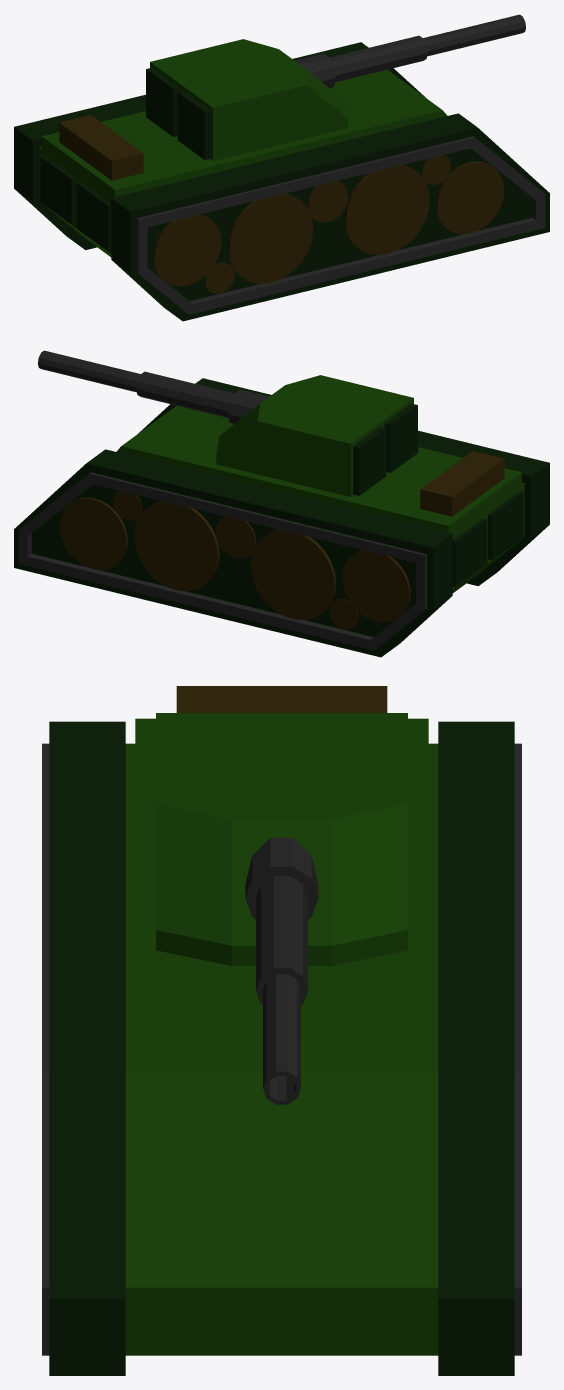
File: Tank.glb
3 renders of one model, top to bottom at view 1: azimuth 30°, elevation 25°; view 2: azimuth 150°, elevation 25°; view 3: azimuth 270°, elevation 25°, orthographic. The views are drawn at different scales.
Visible parts, largest first — view 1: Cube; view 2: Cube; view 3: Cube.
Part boxes in pixels (bbox=[...]): Cube: bbox=[14, 14, 549, 321]; Cube: bbox=[14, 350, 549, 657]; Cube: bbox=[42, 686, 521, 1375].
Bounding box in the file's own units: 4.32 × 1.65 × 2.
